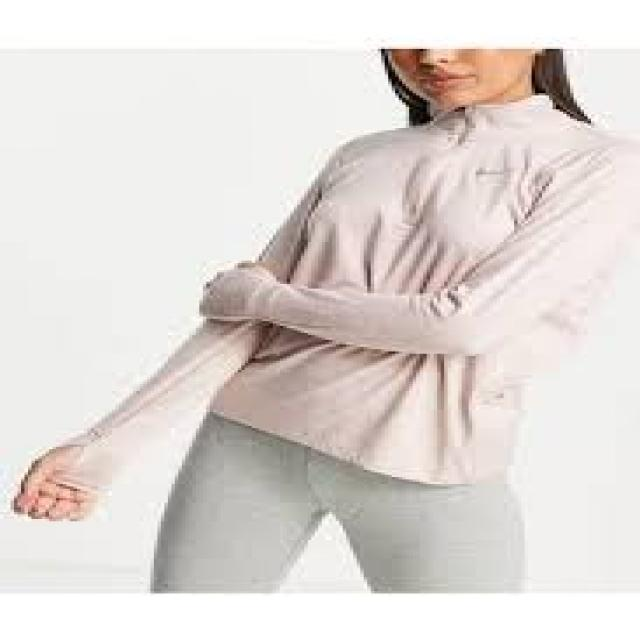plain: (113, 93, 639, 480)
